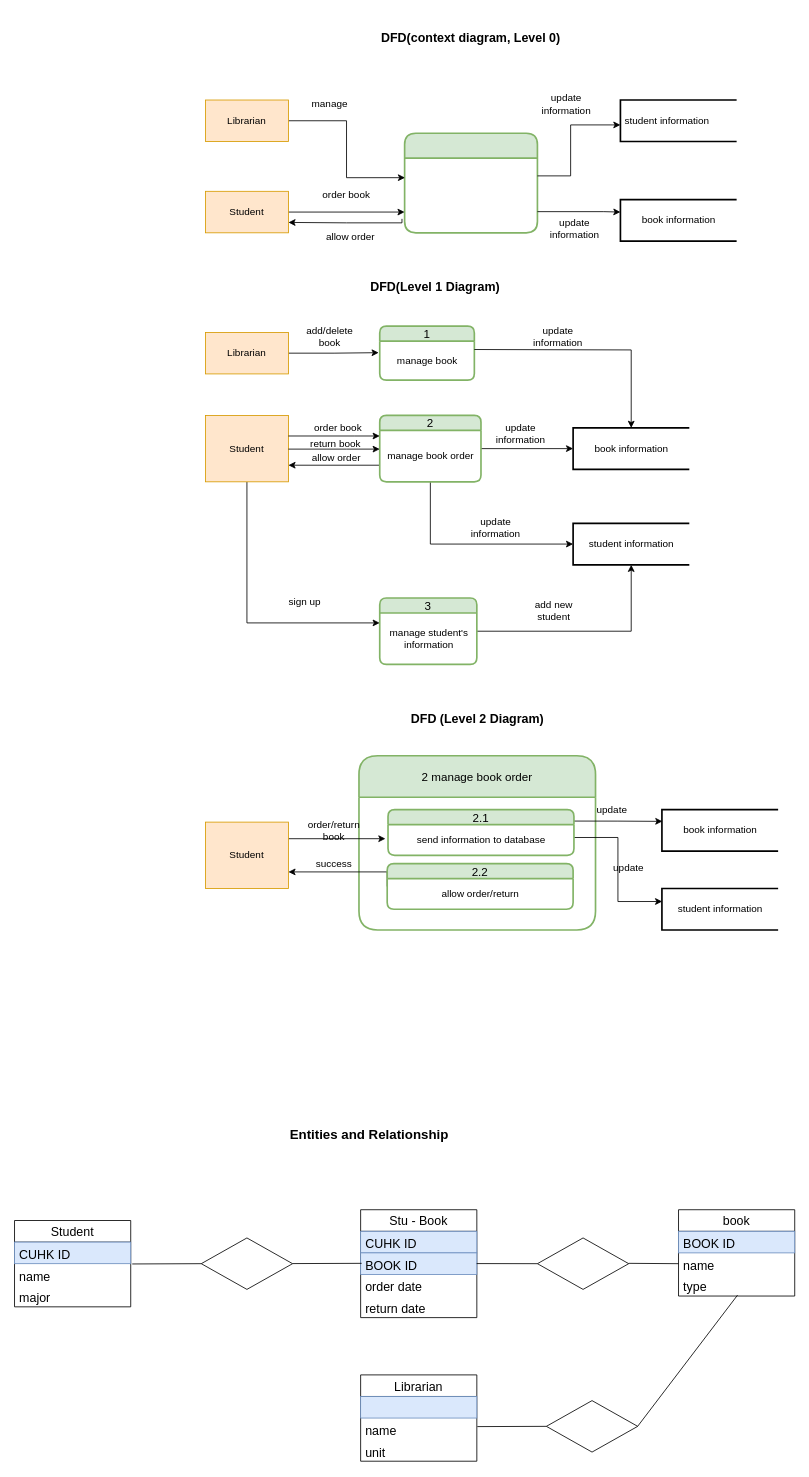
This 809x1477 diagram has some shape labels left out. The centre of each missing label's shape, as x and y in pixels:
add: point 592,1426
Librarian ID: point 418,1407
Library System: point 470,182
order/return: point 246,1263
ordered by: point 583,1263
